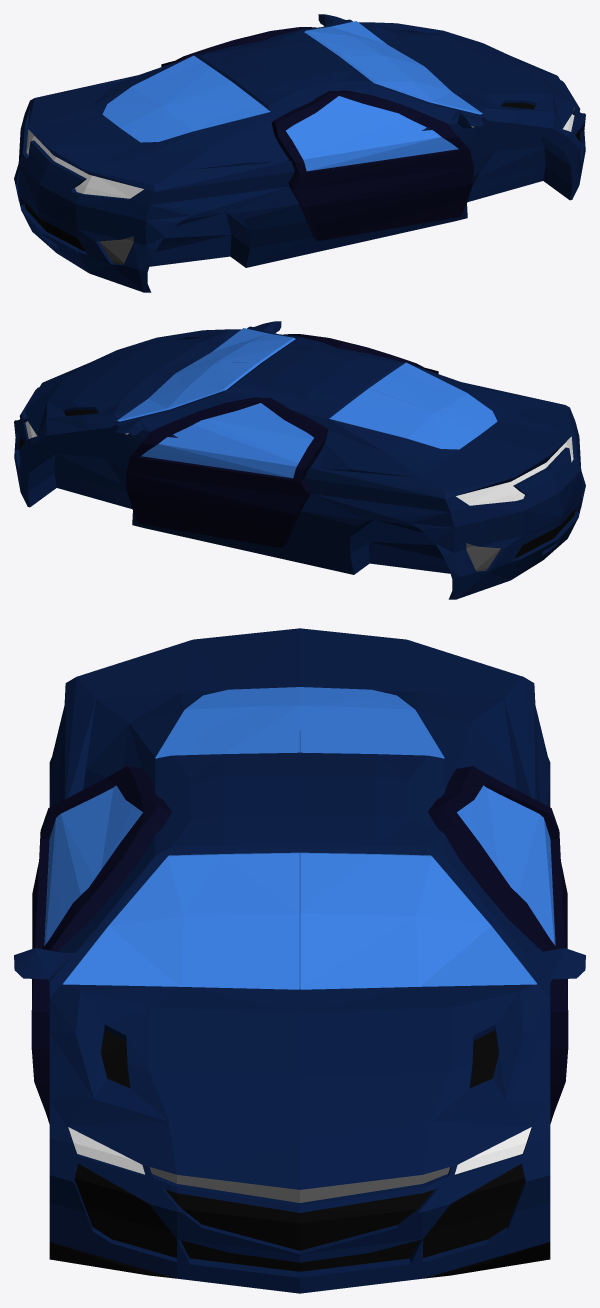
Rendered from Body.fbx.
3 renders of one model, top to bottom at view 1: azimuth 30°, elevation 25°; view 2: azimuth 150°, elevation 25°; view 3: azimuth 270°, elevation 25°, orthographic. The views are drawn at different scales.
Parts seen in each view (by area): view 1: car; view 2: car; view 3: car.
Boxes of the visible parts, bbox=[...] form: car: bbox=[14, 14, 585, 292]; car: bbox=[14, 321, 585, 599]; car: bbox=[14, 628, 585, 1293].
Bounding box in the file's own units: 3043 × 782 × 1515.
